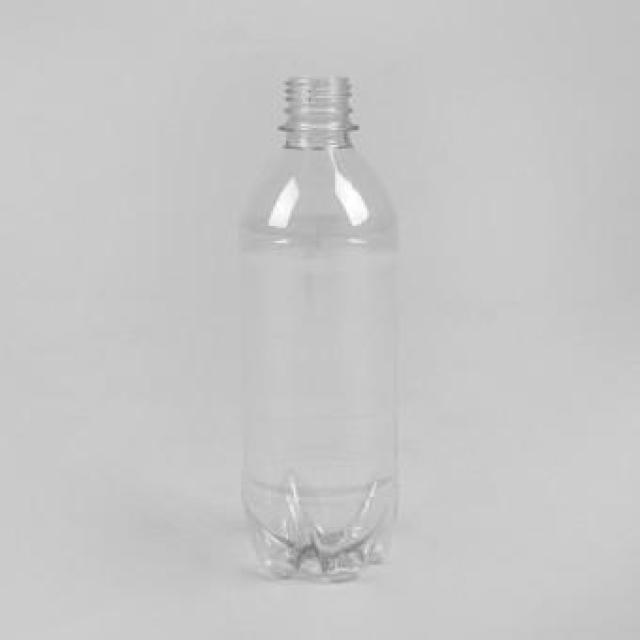bottle: (241, 69, 405, 575)
